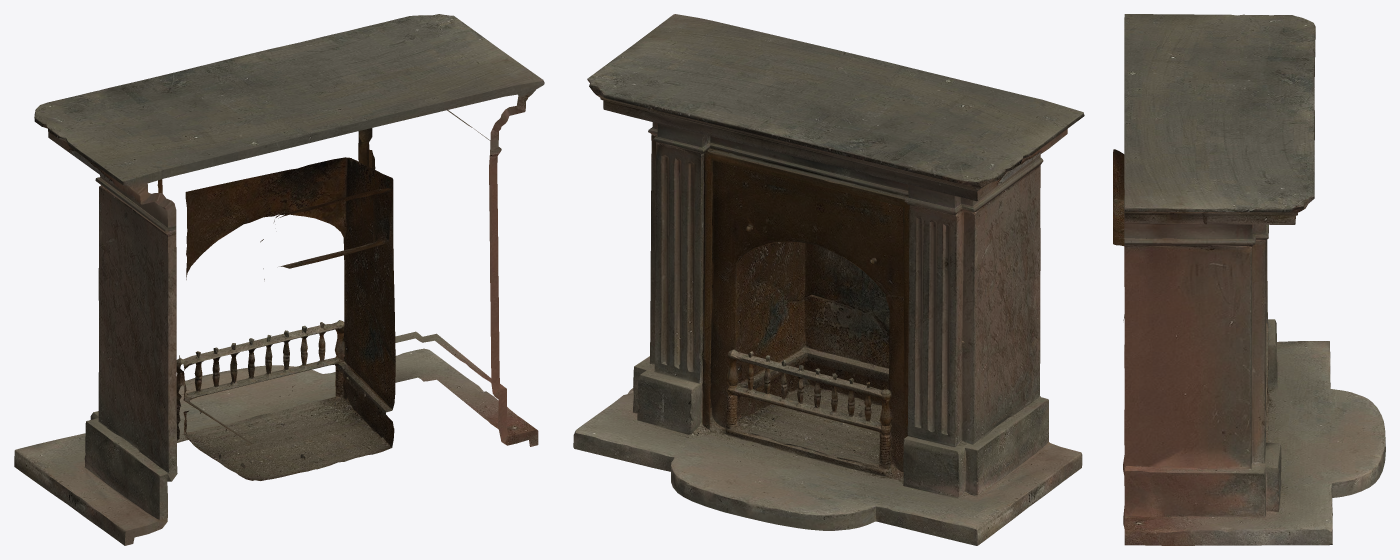
The model's file is fireplace-stone.glb.
3 renders of one model, left to right at view 1: azimuth 30°, elevation 25°; view 2: azimuth 150°, elevation 25°; view 3: azimuth 270°, elevation 25°, orthographic. The views are drawn at different scales.
Visible parts, largest first — view 1: fireplace-stone; view 2: fireplace-stone; view 3: fireplace-stone.
Part boxes in pixels (left/top/right/bottom): fireplace-stone: left=14, top=14, right=544, bottom=545; fireplace-stone: left=573, top=14, right=1084, bottom=545; fireplace-stone: left=1113, top=14, right=1385, bottom=545.
Size of the model in its own units: 1.38 by 1.15 by 0.8242.
Materials: 1 (1 with a texture image).
